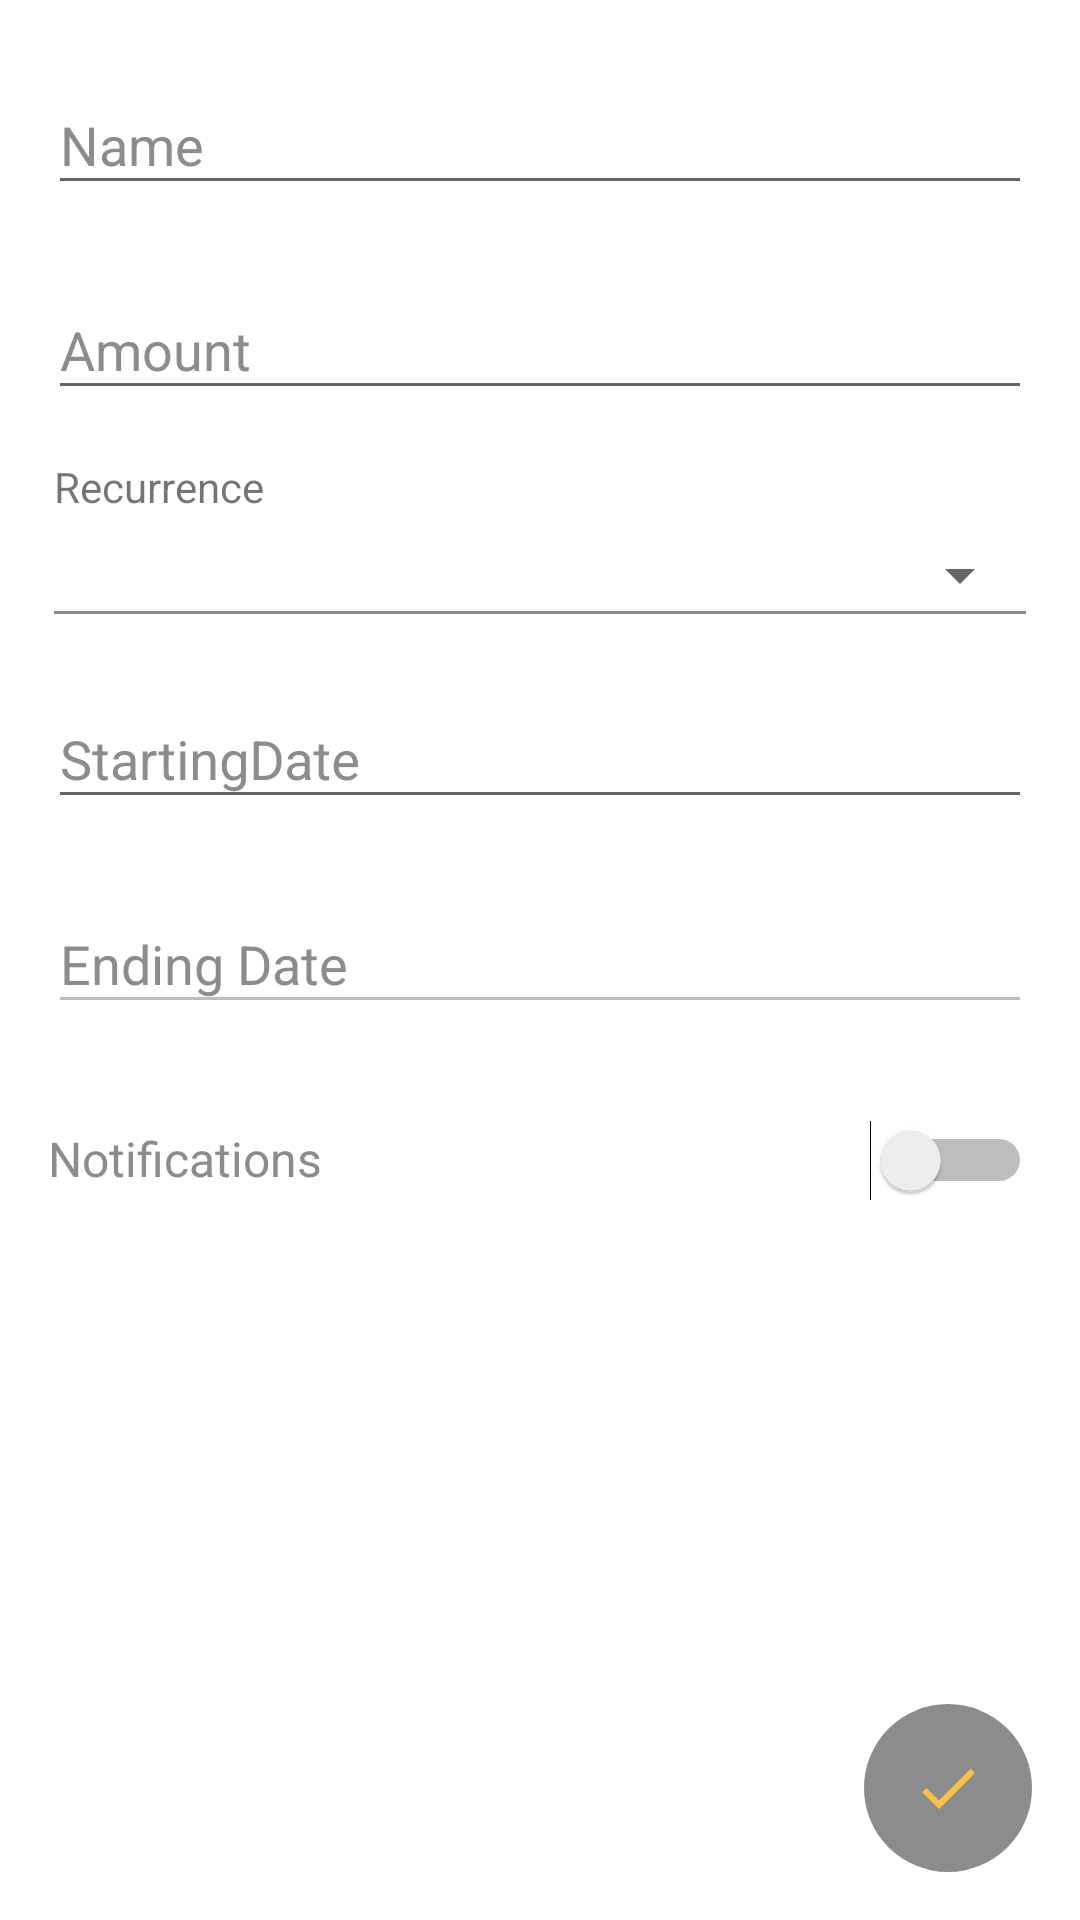

Point at icon controls on the screen. Image size 1080px x 1920px, points as [x,y].
check: [948,1788]
